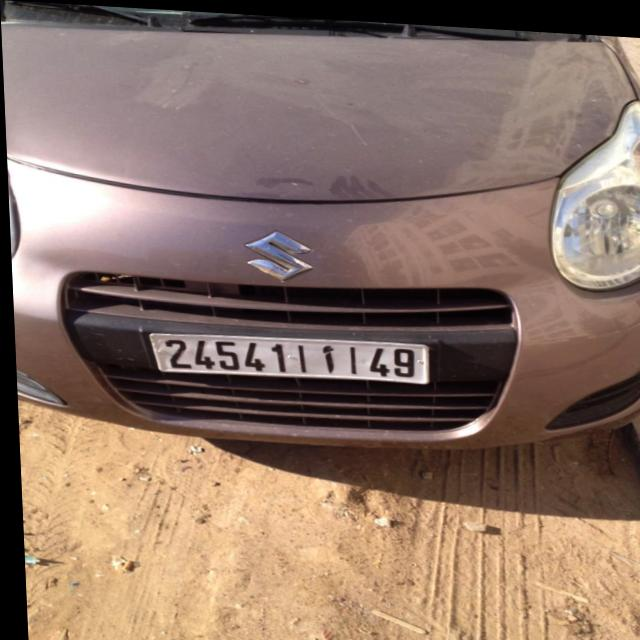License-Plate: (147, 331, 427, 380)
